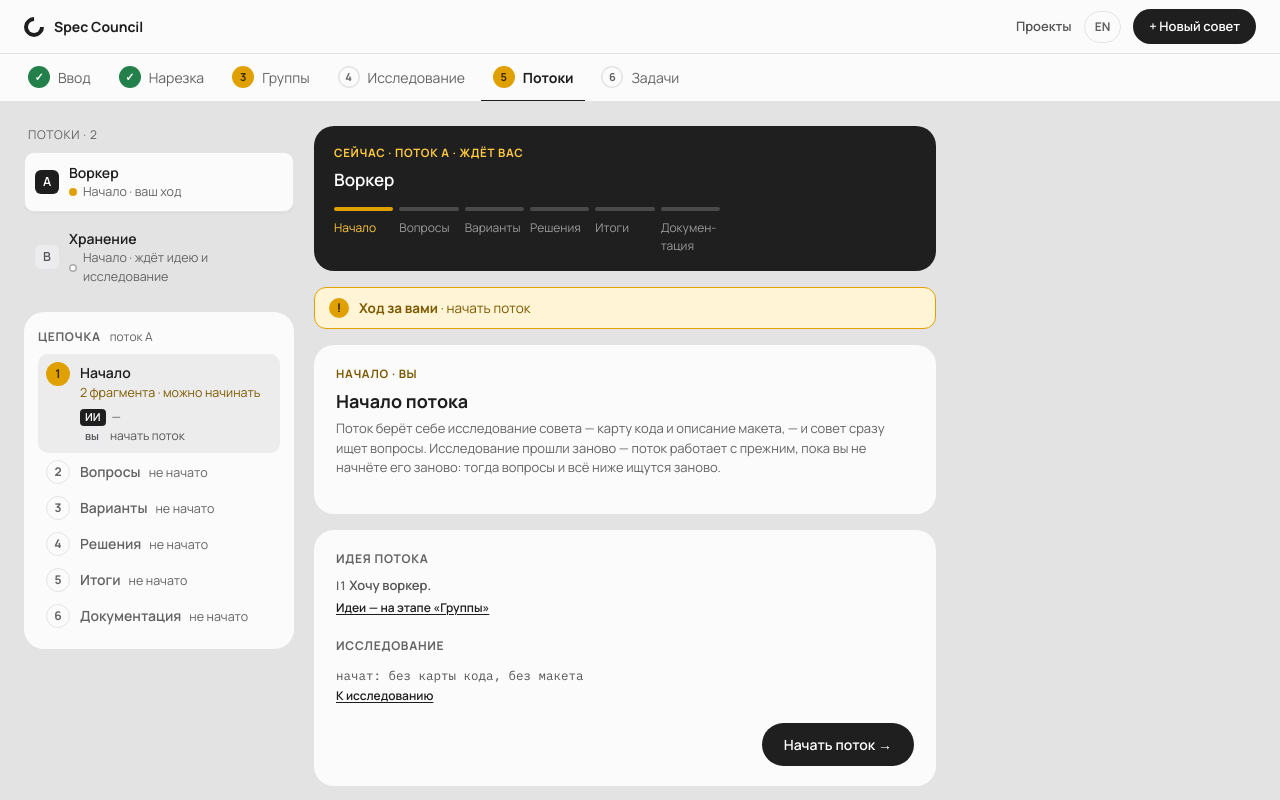
Test: Поток: начало и вопросы › поток начинают, когда исследование пройдено: он берёт его себе — и вопросы ищет ИИ
Expected: the heading "Начало потока" is shown, [336,389,468,413]
Expected: the text "Хочу воркер." is shown, [349,576,431,594]
Step 1. Click the button "Начать поток →" → (838, 745), box [762,723,914,766]
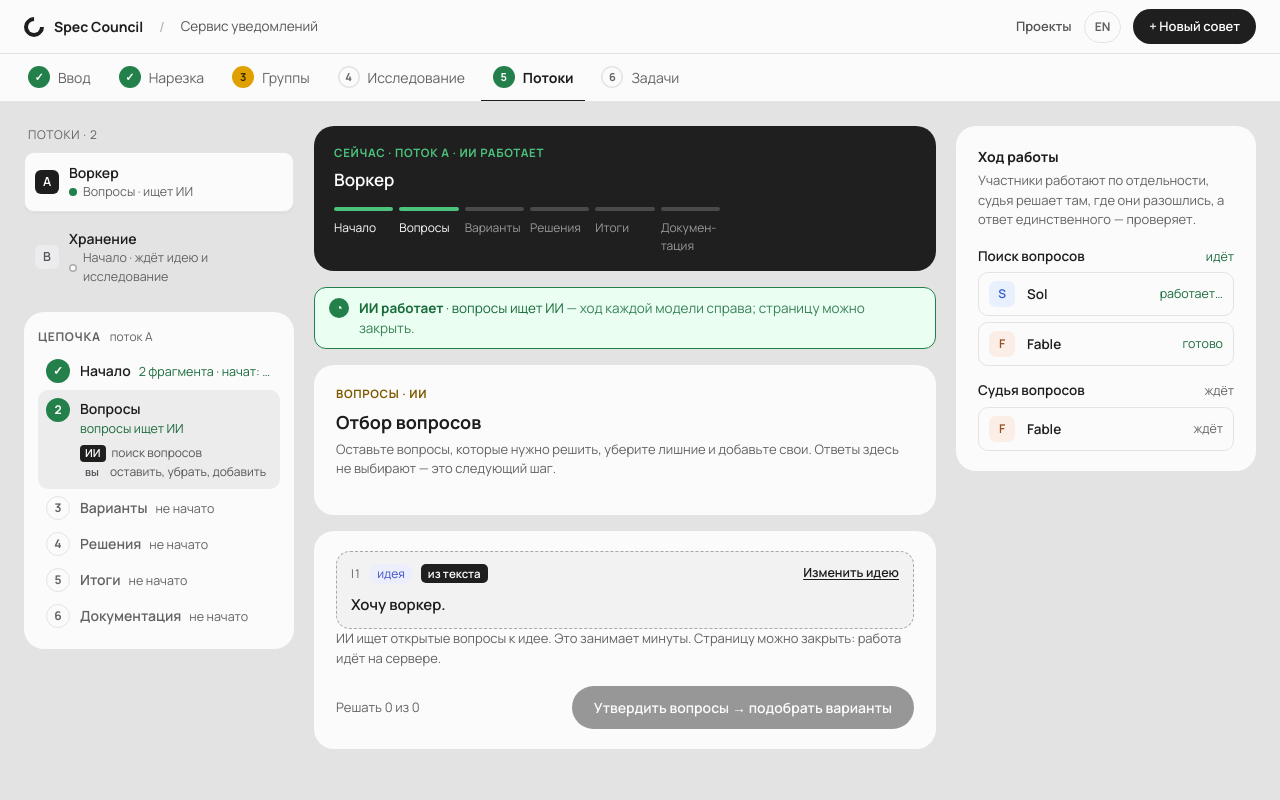
Expected: the heading "Отбор вопросов" is shown, [336,410,481,434]
Expected: the text "из текста" is shown, [421,564,488,583]
Expected: the text "ИИ ищет открытые вопросы к идее." is shown, [336,629,552,647]
Step 2. Click the button "Изменить идею" → (851, 574), box [803,564,899,583]
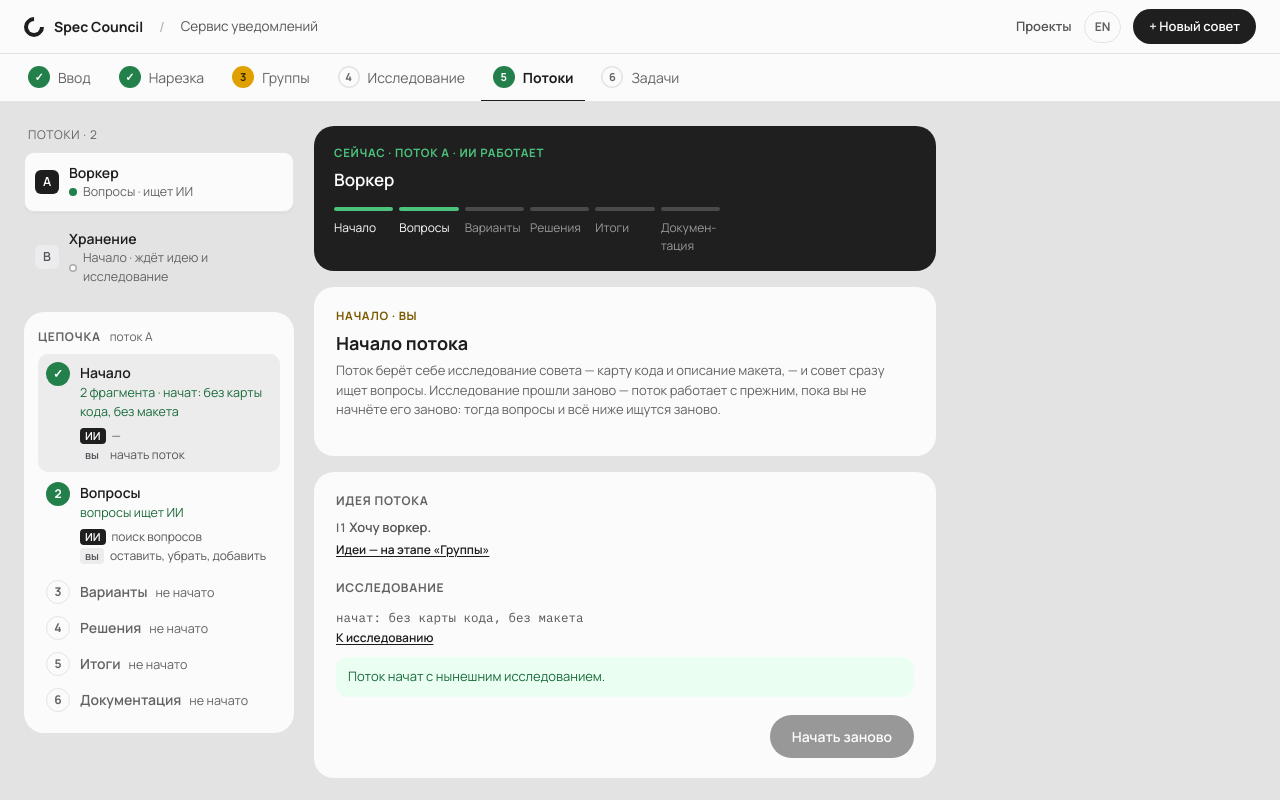
Expected: the button "Начать заново" is disabled, [770,714,914,758]
Expected: the heading "Начало потока" is shown, [336,331,468,355]
Expected: the text "Поток начат с нынешним исследованием." is shown, [336,657,914,696]
